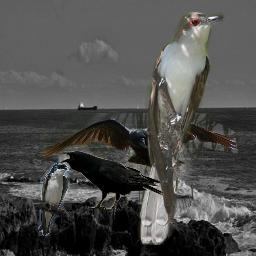Crow: (40, 113, 239, 182), (60, 151, 164, 212)
Cuckoo: (137, 9, 225, 245)
Swallow: (38, 163, 70, 236)
